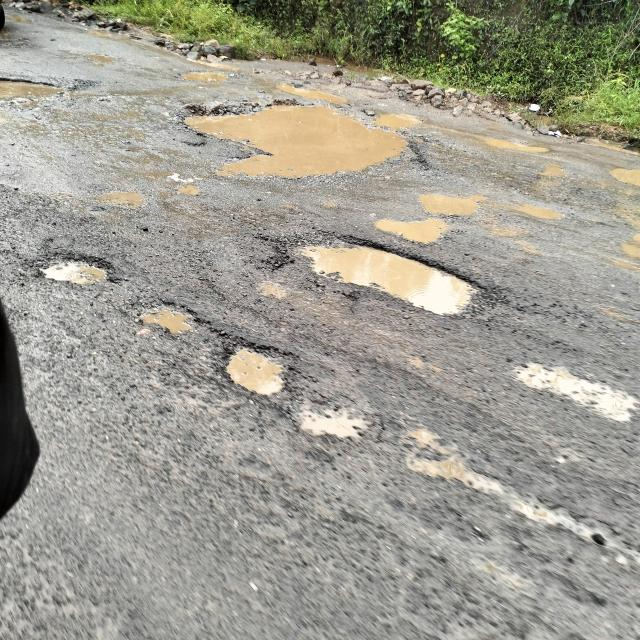pothole: (390, 418, 590, 568), (169, 83, 420, 200), (282, 226, 510, 332), (509, 353, 637, 425), (358, 188, 501, 251), (489, 188, 570, 264), (597, 153, 640, 286), (219, 328, 288, 405), (0, 56, 87, 116), (27, 247, 116, 298), (289, 395, 374, 448), (452, 128, 564, 167), (127, 290, 204, 342), (154, 54, 245, 92), (172, 58, 232, 95), (250, 269, 299, 309), (520, 156, 584, 186), (78, 45, 128, 83), (91, 189, 150, 220), (171, 167, 210, 205), (86, 48, 119, 73), (398, 570, 401, 576)
